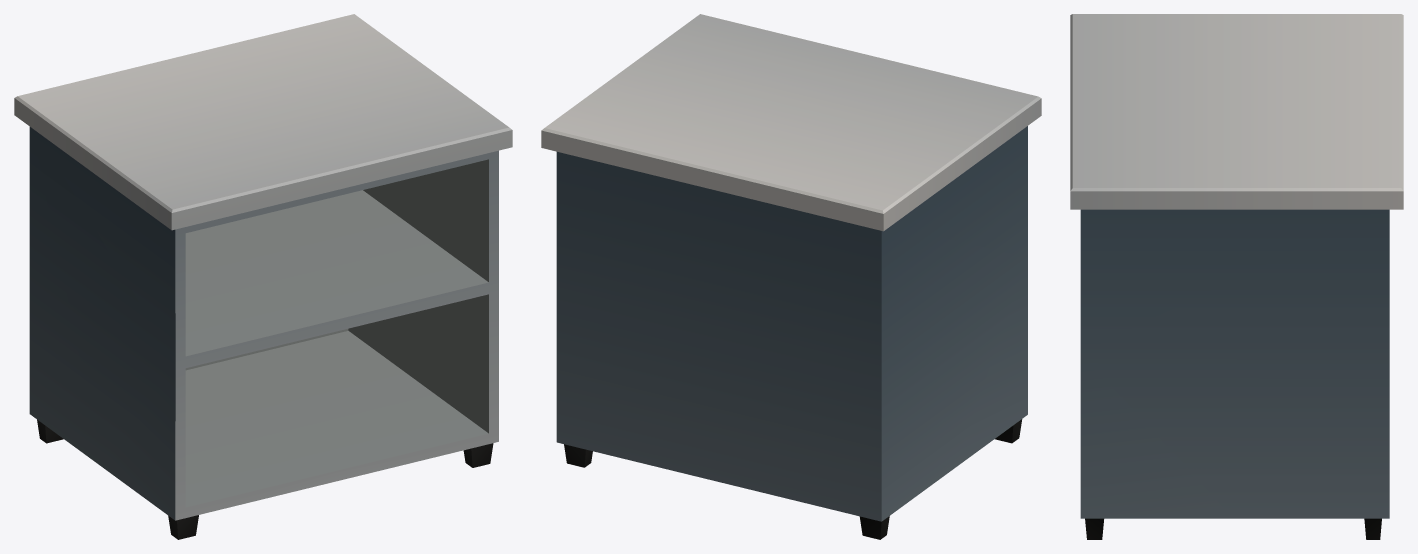
File: cabinet.glb
The picture shows the model from 3 angles, left to right: view 1: azimuth 30°, elevation 25°; view 2: azimuth 150°, elevation 25°; view 3: azimuth 270°, elevation 25°; orthographic projection. The views are drawn at different scales.
Visible parts, largest first — view 1: Cabinet; view 2: Cabinet; view 3: Cabinet.
Part boxes in pixels (bbox=[...]): Cabinet: bbox=[14, 14, 512, 539]; Cabinet: bbox=[541, 14, 1041, 539]; Cabinet: bbox=[1070, 14, 1403, 539].
Bounding box in the file's own units: 1.02 × 0.9691 × 0.817.
1 material, 1 textured.
